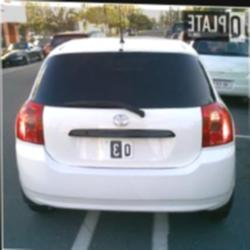License_Plate: (102, 137, 138, 163)
